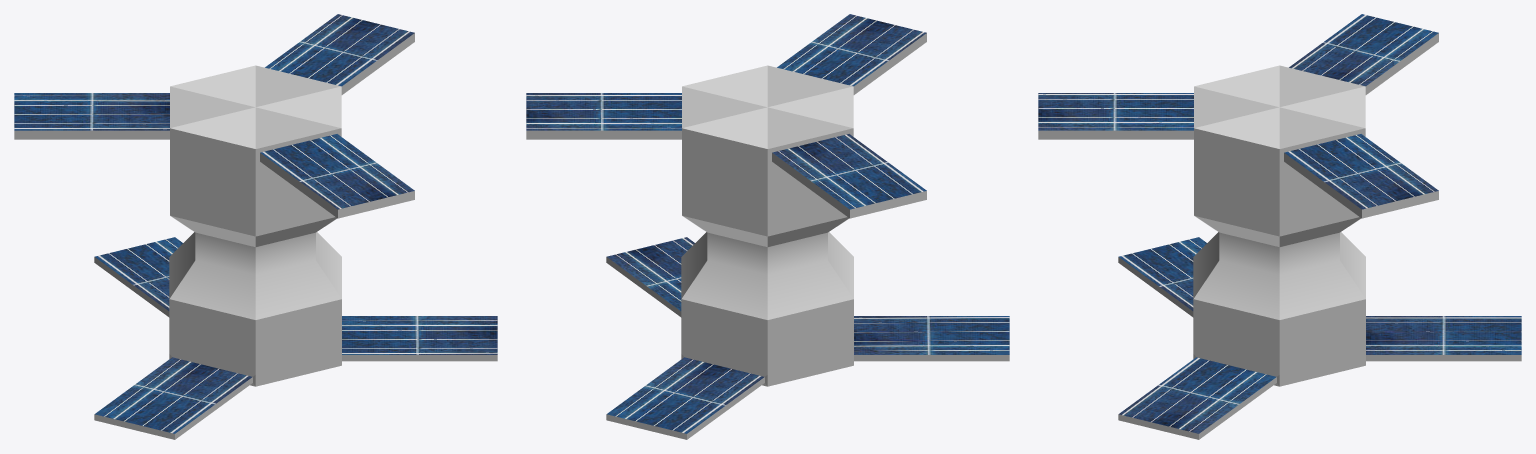
The model's file is Satellite_3.fbx.
The picture shows the model from 3 angles, left to right: view 1: azimuth 30°, elevation 25°; view 2: azimuth 150°, elevation 25°; view 3: azimuth 270°, elevation 25°; orthographic projection.
Visible parts, largest first — view 1: pCylinder3; view 2: pCylinder3; view 3: pCylinder3.
Boxes of the visible parts, box(x1,y1,x2,y2) form: pCylinder3: box(14, 14, 497, 439); pCylinder3: box(526, 14, 1009, 439); pCylinder3: box(1038, 14, 1521, 439).
Size of the model in its own units: 44.86 by 25.21 by 46.57.
